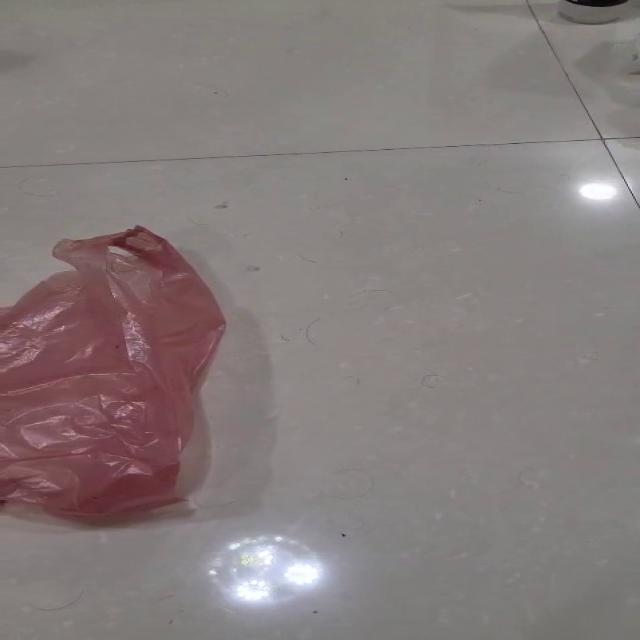plastic: (0, 223, 228, 520)
